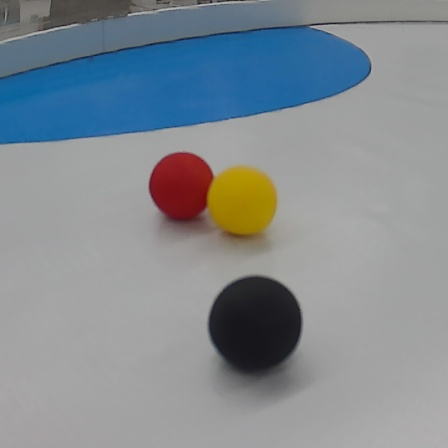black: (205, 274, 307, 377)
blue_base: (1, 23, 372, 146)
red: (145, 149, 214, 222)
yellow: (205, 165, 281, 239)
